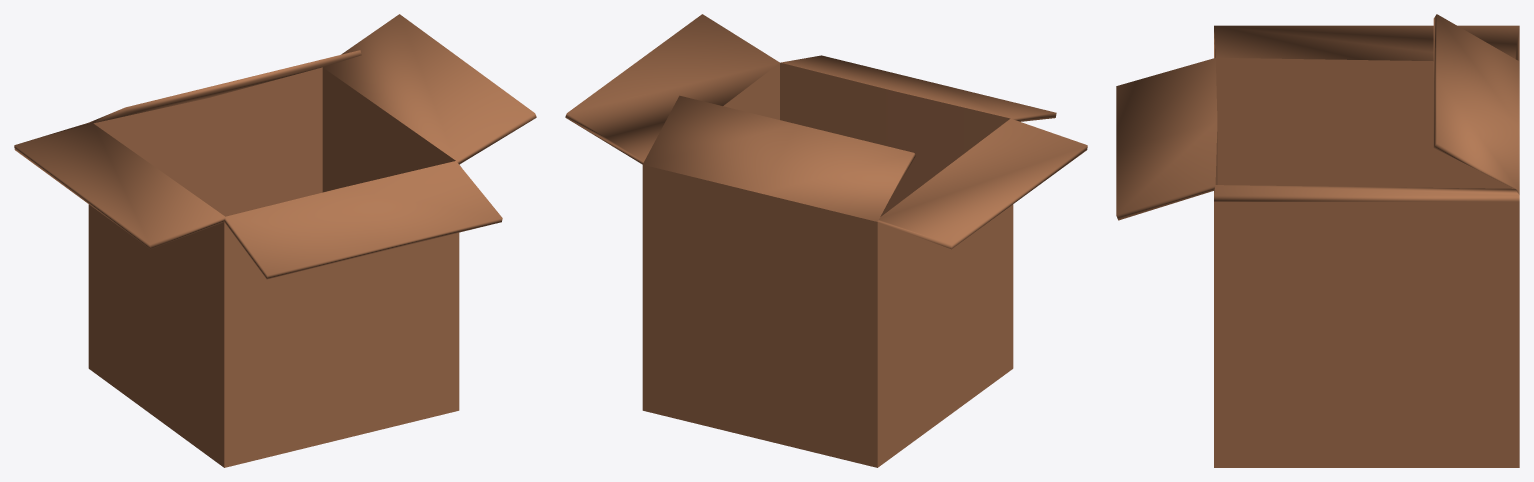
Rendered from Caixa.fbx.
3 renders of one model, left to right at view 1: azimuth 30°, elevation 25°; view 2: azimuth 150°, elevation 25°; view 3: azimuth 270°, elevation 25°, orthographic. The views are drawn at different scales.
Visible parts, largest first — view 1: Cube; view 2: Cube; view 3: Cube.
Part boxes in pixels (x1,y1,x2,y2): Cube: (14, 14, 536, 467); Cube: (565, 14, 1087, 467); Cube: (1116, 14, 1519, 467).
Size of the model in its own units: 329 by 234 by 264.
